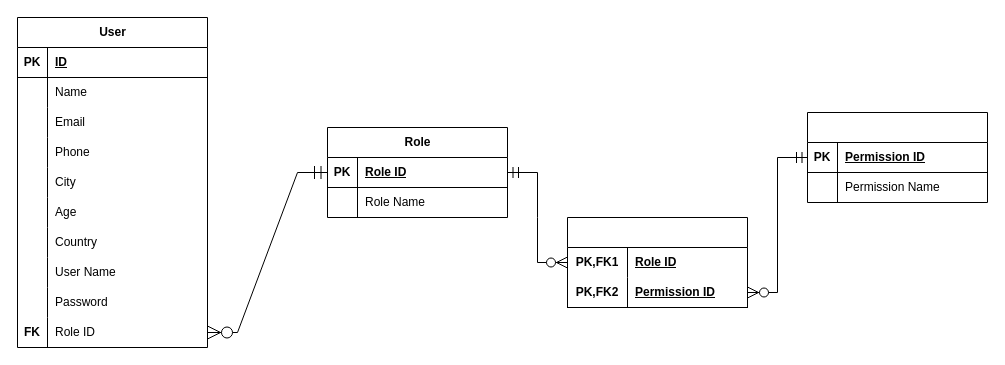
The diagram is 1005 pixels wide and 365 high, and some of its shapes have lost their labels. Here are the shapes that lost their labels. From the top down, the box of each, then its label:
(806, 112, 988, 202): Permissions
(566, 216, 748, 308): RolePermissions
